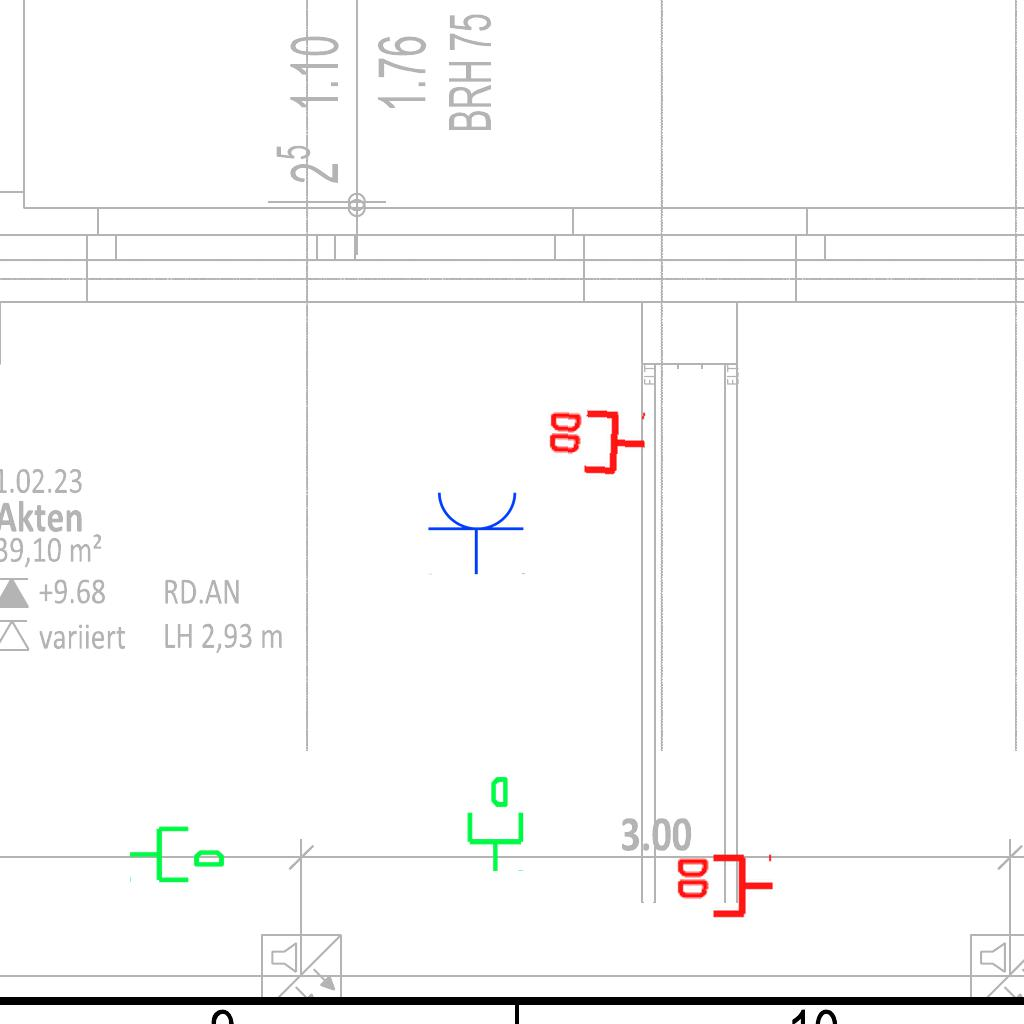Datenanschluss_einfach: (459, 774, 528, 874), (127, 818, 227, 887)
Datenanschluss_zweifach: (543, 406, 650, 481), (673, 853, 776, 922)
Schukosteckdose_einfach: (427, 488, 527, 575)
